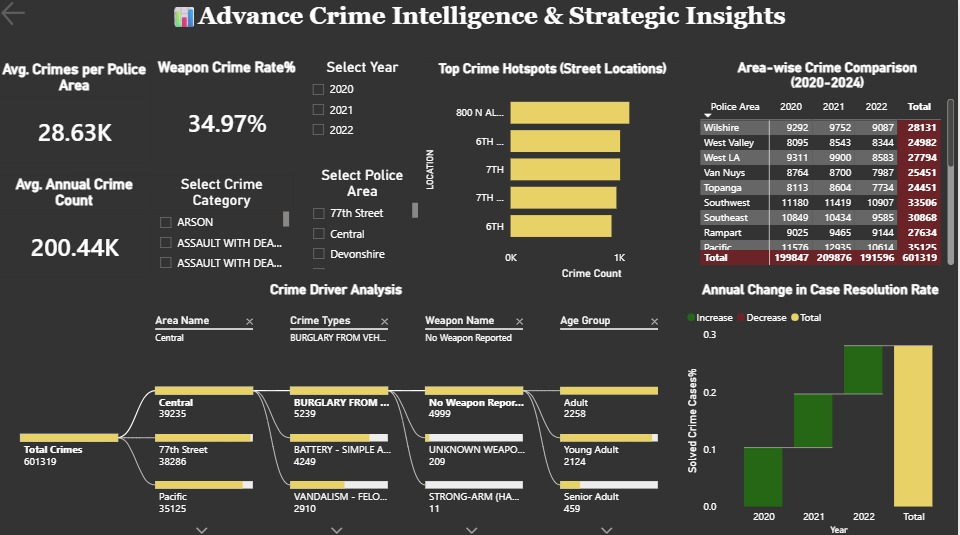

The dashboard page shown, as its layout file describes it:
{"tool":"powerbi","page":{"name":"Page 3","canvas":[1280,720],"ordinal":2},"visuals":[{"type":"barChart","title":"Top Crime Hotspots (Street Locations)","fields":{"Category":["crime_cleaned.LOCATION"],"Y":["Count(crime_cleaned.DR_NO)"]},"box":[565,83.3,348.3,295],"z":0},{"type":"pivotTable","title":"Area-wise Crime Comparison (2020-2022)","fields":{"Columns":["crime_cleaned.Crime_Year","crime_cleaned.Crime_Month"],"Rows":["crime_cleaned.AREA_NAME"],"Values":["Count(crime_cleaned.DR_NO)"]},"box":[931.7,81.7,348.3,278.3],"z":1000},{"type":"decompositionTreeVisual","title":"Crime Driver Analysis","fields":{"Analyze":["crime_cleaned.Total_crimes"],"ExplainBy":["crime_cleaned.AREA_NAME","crime_cleaned.Crm_Cd_Desc","crime_cleaned.Weapon_Desc","crime_cleaned.Age_Group"]},"box":[0,378.3,901.7,341.7],"z":2000},{"type":"waterfallChart","title":"Case Resolution Rate by Year","fields":{"Category":["crime_cleaned.Crime_Year"],"Y":["crime_cleaned.Solved_Cases%"]},"box":[913.3,378.3,366.7,341.7],"z":3000},{"type":"cardVisual","title":"Avg. Crimes per Police Area","fields":{"Data":["crime_cleaned.Average_Crimes_Per_Area"]},"box":[0,83.3,203.3,141.7],"z":4000},{"type":"cardVisual","title":"Avg. Annual Crime Count","fields":{"Data":["crime_cleaned.Average_Crimes_Per_Year"]},"box":[0,236.7,203.3,141.7],"z":5000},{"type":"textbox","box":[0,0,1280.3,82.3],"z":6000},{"type":"cardVisual","title":"Weapon Crime Rate%","fields":{"Data":["crime_cleaned.Weapon_Crime_Rate %"]},"box":[203.3,81.7,203.3,143.3],"z":7000},{"type":"slicer","title":"Select Year","fields":{"Values":["crime_cleaned.Crime_Year"]},"box":[406.7,81.7,158.3,123.3],"z":8000},{"type":"slicer","title":"Select Crime Category","fields":{"Values":["crime_cleaned.Crm_Cd_Desc"]},"box":[203.3,236.7,190,130],"z":9000},{"type":"slicer","title":"Select Police Area","fields":{"Values":["crime_cleaned.AREA_NAME"]},"box":[406.7,225,158.3,141.7],"z":10000},{"type":"actionButton","box":[0,0,50,41.7],"z":11000}]}

Visuals, with their boxes in screenshot pixels (x1, y1, x2, y2), scaled from the page's 1280x720 canvas onto the 960x535 screenshot:
"Top Crime Hotspots (Street Locations)" barChart: crop(424, 62, 685, 281)
"Area-wise Crime Comparison (2020-2022)" pivotTable: crop(699, 61, 959, 268)
"Crime Driver Analysis" decompositionTreeVisual: crop(0, 281, 676, 534)
"Case Resolution Rate by Year" waterfallChart: crop(685, 281, 959, 534)
"Avg. Crimes per Police Area" cardVisual: crop(0, 62, 152, 167)
"Avg. Annual Crime Count" cardVisual: crop(0, 176, 152, 281)
textbox: crop(0, 0, 959, 61)
"Weapon Crime Rate%" cardVisual: crop(152, 61, 305, 167)
"Select Year" slicer: crop(305, 61, 424, 152)
"Select Crime Category" slicer: crop(152, 176, 295, 272)
"Select Police Area" slicer: crop(305, 167, 424, 272)
actionButton: crop(0, 0, 38, 31)
